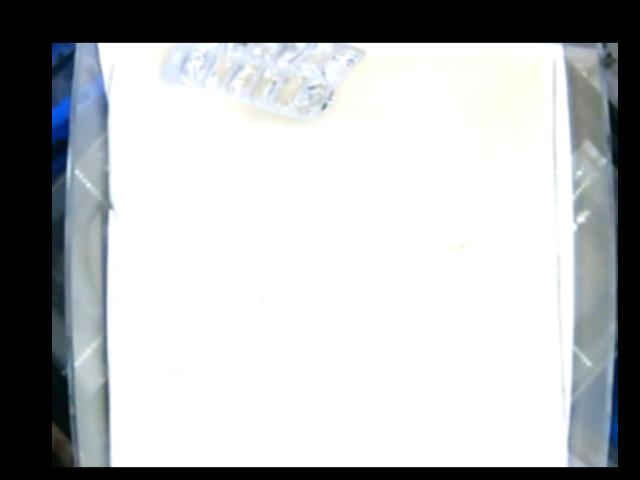Medicine: (159, 43, 365, 120)
